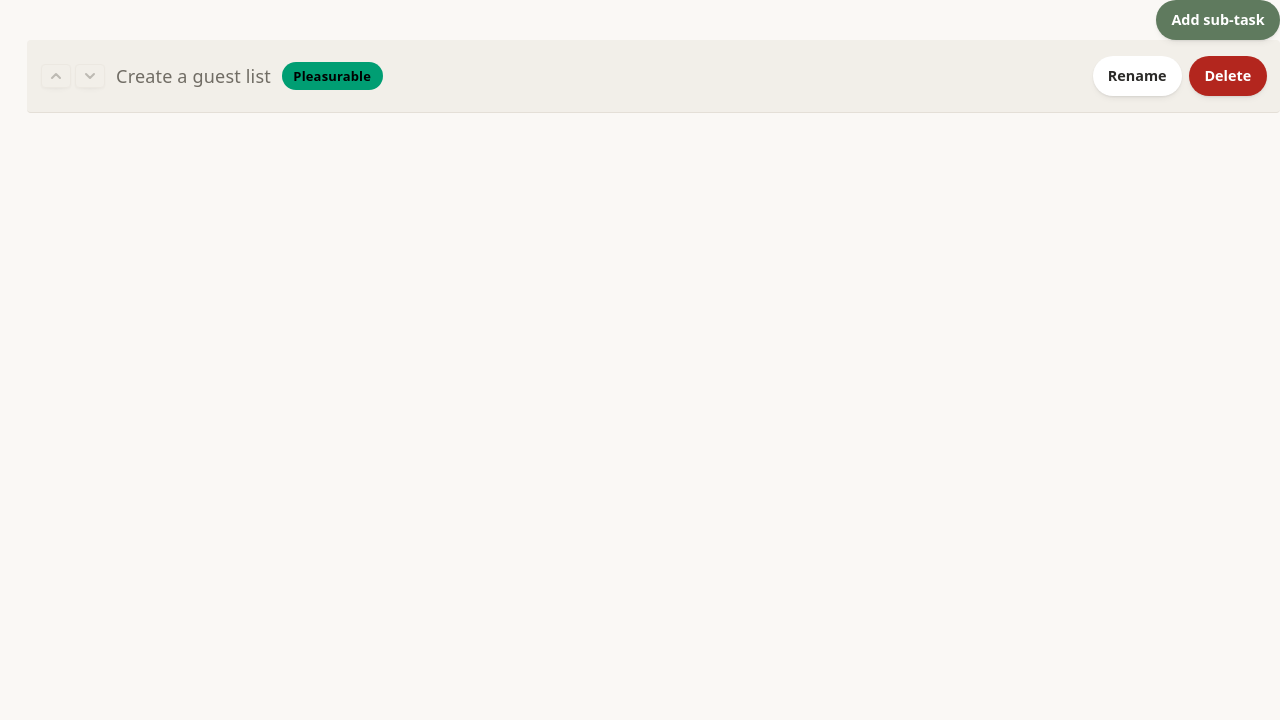
SubTaskList › FRONTEND-003-AC-09: rename is activated and prefills the field › shows the rename form with the current name
Click the button "Rename": (1137, 76) [1092,56,1182,96]
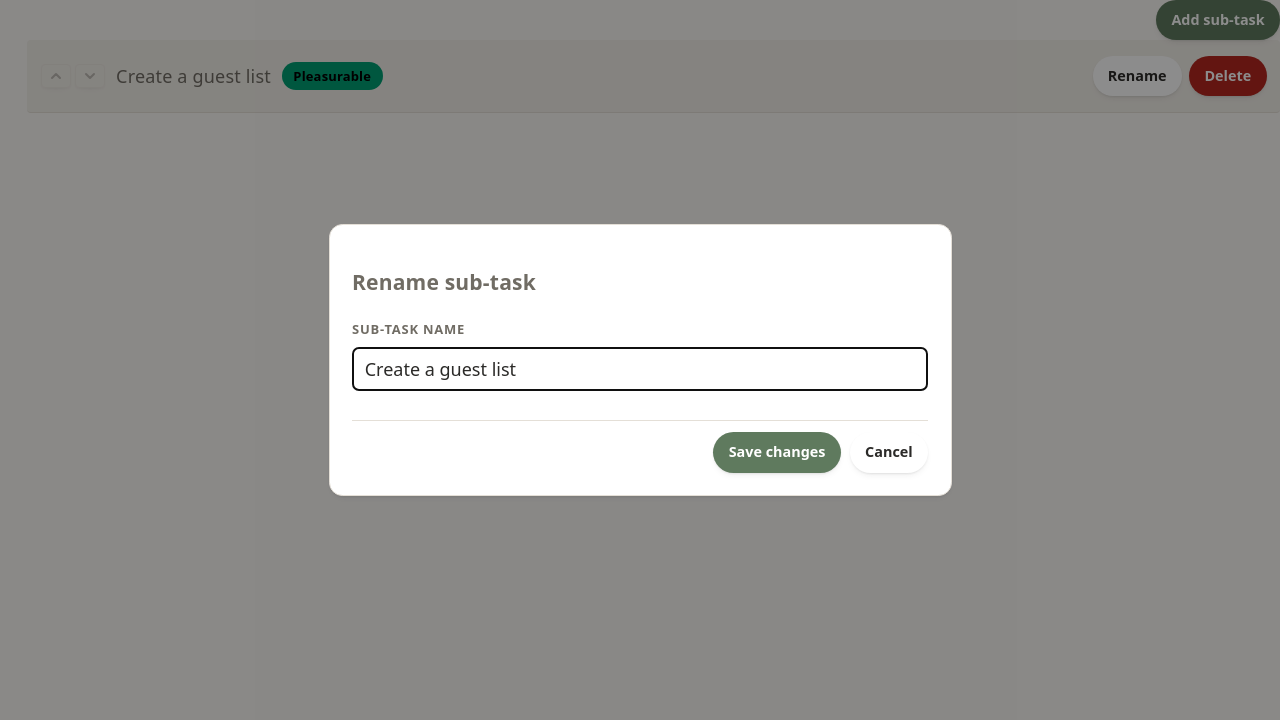
Now the dialog "Rename sub-task Sub-task name Save changes Cancel" is shown, box [328,224,952,496]
Now the field labelled "Sub-task name" holds "Create a guest list", box [352,347,928,392]
Now the button "Save changes" is shown, box [713,432,841,472]
